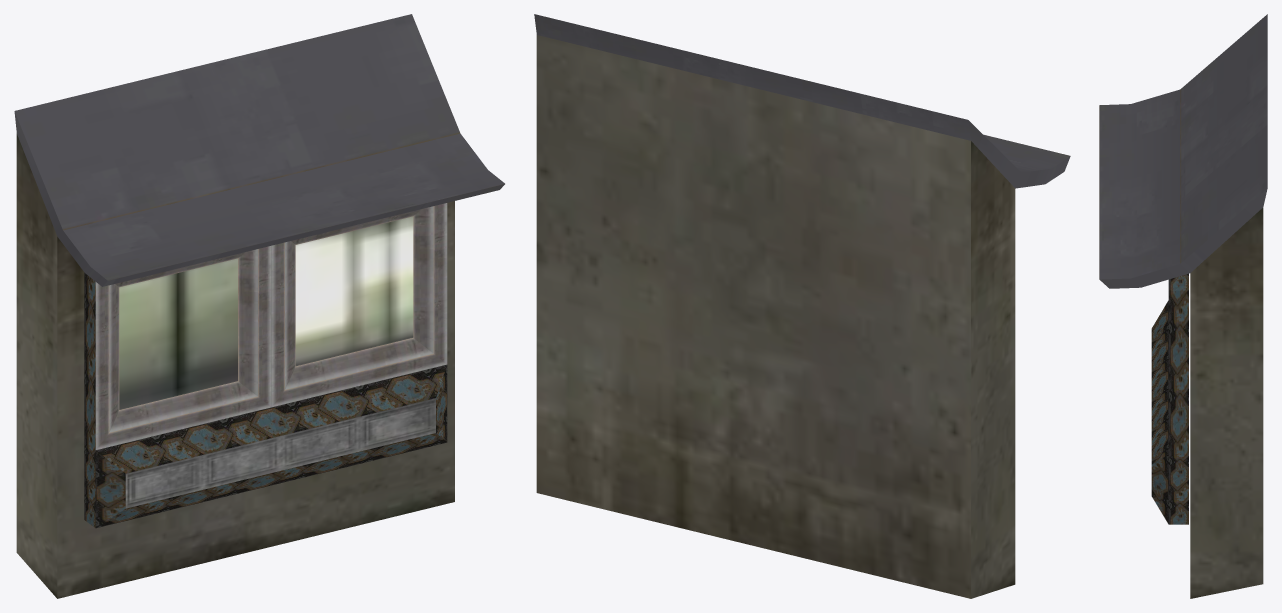
File: wall-module-07.glb
The picture shows the model from 3 angles, left to right: view 1: azimuth 30°, elevation 25°; view 2: azimuth 150°, elevation 25°; view 3: azimuth 270°, elevation 25°; orthographic projection. The views are drawn at different scales.
Visible parts, largest first — view 1: Wall_Module_07; view 2: Wall_Module_07; view 3: Wall_Module_07.
Part boxes in pixels (x1,y1,x2,y2): Wall_Module_07: (14,14,504,598); Wall_Module_07: (534,14,1070,598); Wall_Module_07: (1099,14,1267,598).
Bounding box in the file's own units: 2.27 × 2.5 × 0.9269.
Materials: 2 (2 with a texture image).
